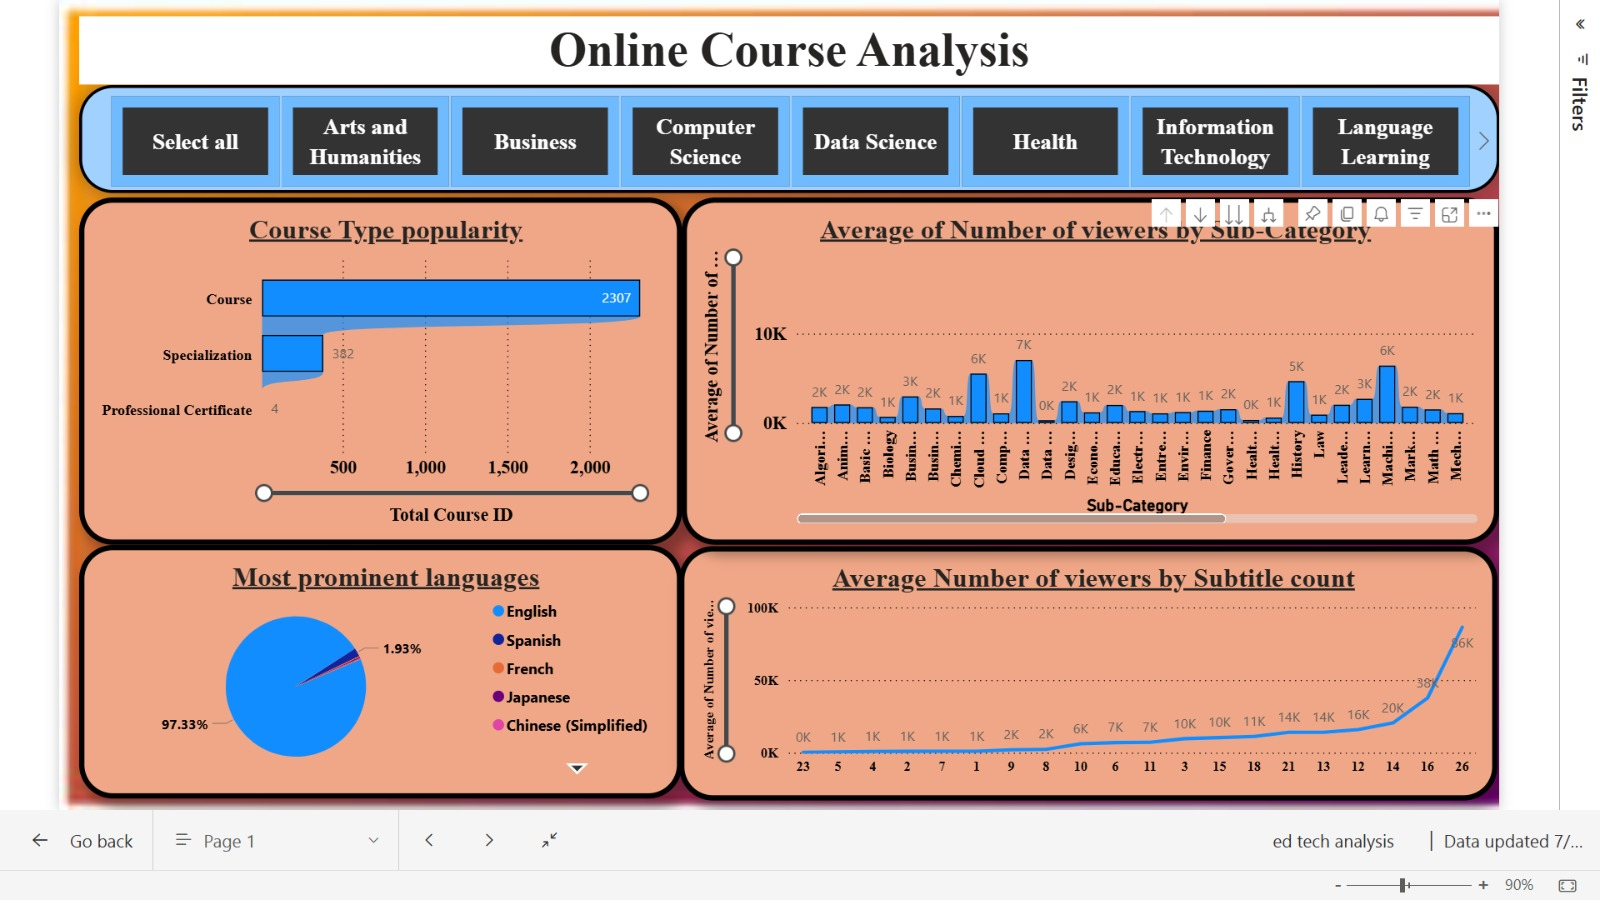

The dashboard page shown, as its layout file describes it:
{"tool":"powerbi","page":{"name":"Page 1","canvas":[1280,720],"ordinal":1},"visuals":[{"type":"slicer","fields":{"Values":["Online_Courses.Category"]},"box":[17.6,75.2,1262.4,96],"z":0},{"type":"barChart","title":"Course Type popularity","fields":{"Category":["Online_Courses.Course Type"],"Y":["CountNonNull(Online_Courses.Sub-Category)"]},"box":[17.6,176,536,308.8],"z":1000},{"type":"textbox","box":[17.6,14.4,1262.4,60.8],"z":2000},{"type":"columnChart","fields":{"Category":["Online_Courses.Sub-Category","Online_Courses.Language"],"Y":["Avg(Online_Courses.Number of viewers)"]},"box":[553.6,176,726.4,308.8],"z":3000},{"type":"pieChart","title":"Most prominent languages","fields":{"Category":["Online_Courses.Language"],"Y":["CountNonNull(Online_Courses.Course id)"]},"box":[17.6,484.8,536,225.6],"z":4000},{"type":"lineChart","title":"Average Number of viewers by Subtitle count","fields":{"Category":["Online_Courses.Subtitle count"],"Y":["Avg(Online_Courses.Number of viewers)"]},"box":[551.6,485.5,727.4,225.8],"z":5000}]}

Visuals, with their boxes on the page's 1280x720 design canvas (x1, y1, x2, y2). These are canvas units, not pixel positions in the 1600x900 screenshot, which may show the page scaled, cropped or inside an application window:
slicer - Online_Courses.Category: crop(18, 75, 1280, 171)
"Course Type popularity" barChart: crop(18, 176, 554, 485)
textbox: crop(18, 14, 1280, 75)
columnChart - Online_Courses.Sub-Category x Online_Courses.Language: crop(554, 176, 1280, 485)
"Most prominent languages" pieChart: crop(18, 485, 554, 710)
"Average Number of viewers by Subtitle count" lineChart: crop(552, 486, 1279, 711)
